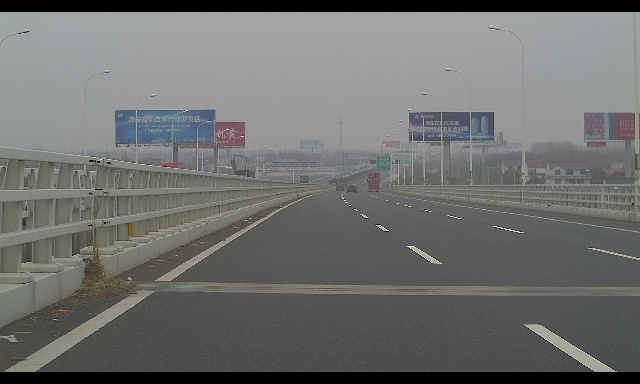car: (346, 184, 357, 193), (336, 182, 344, 191)
truck: (235, 170, 255, 190), (367, 173, 380, 192), (299, 175, 309, 185)
